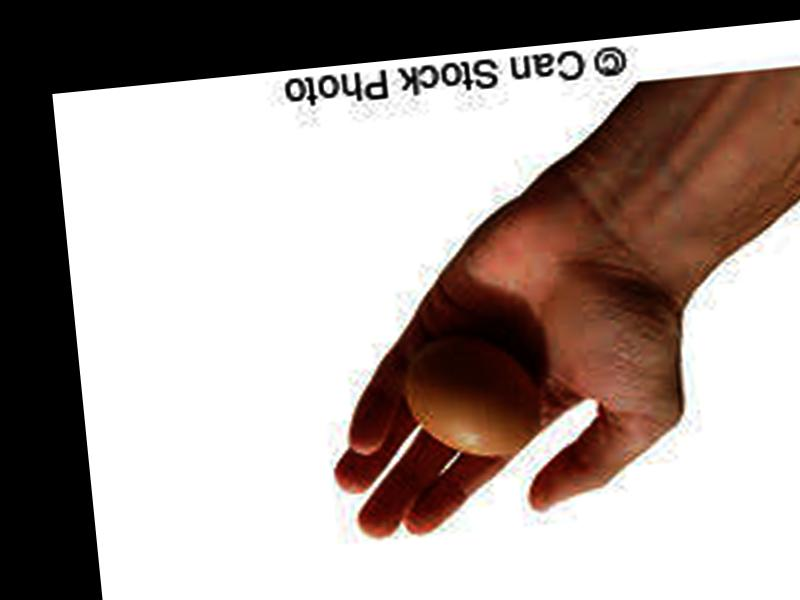Eggs: (398, 330, 539, 459)
